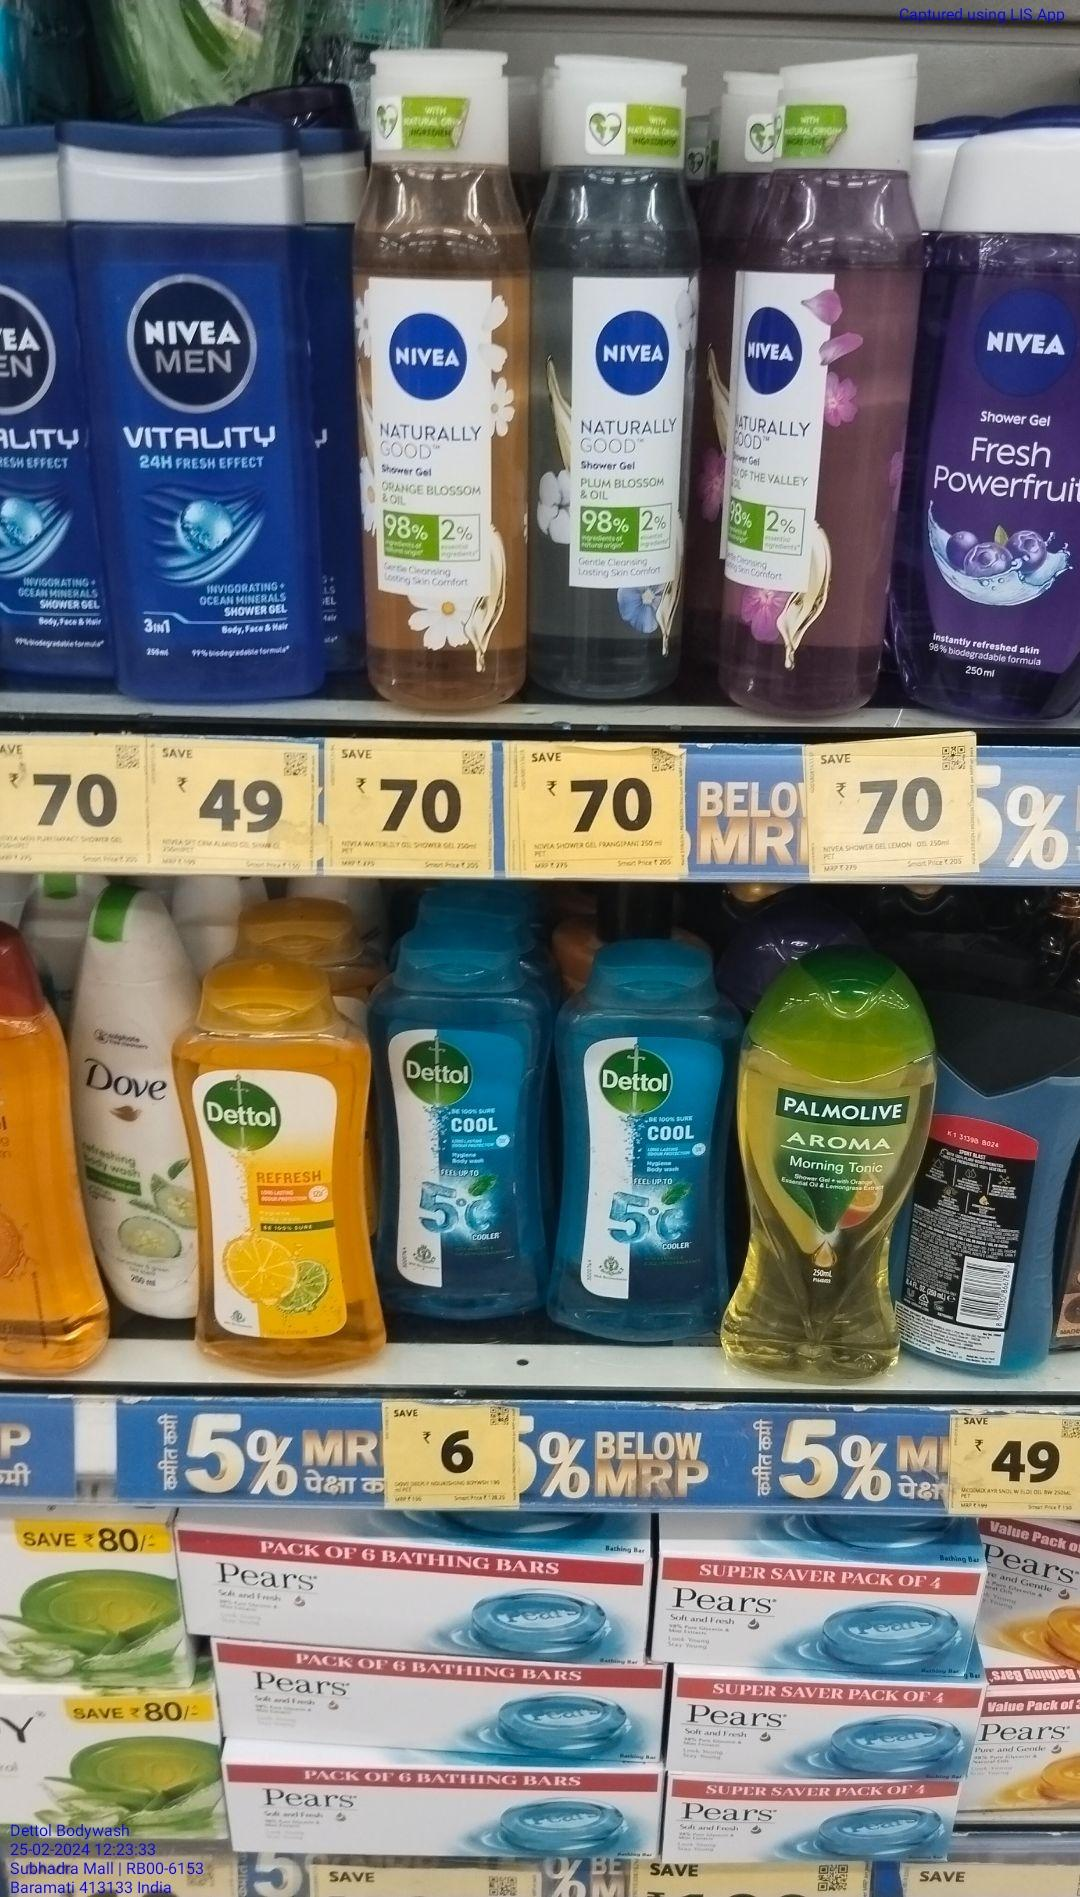Dettol_Bodywash_Cool: (388, 941, 552, 1324), (564, 956, 724, 1347)
Dettol_Bodywash_Refresh: (178, 984, 382, 1372)
Palmolive_Aroma_Morning_Tonic_Shower_Gel_250ML: (744, 972, 934, 1373)
